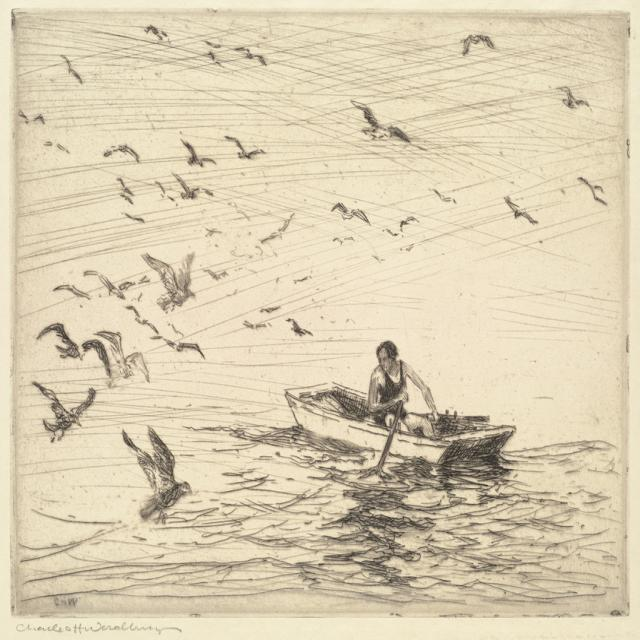Boat: (260, 359, 514, 474)
